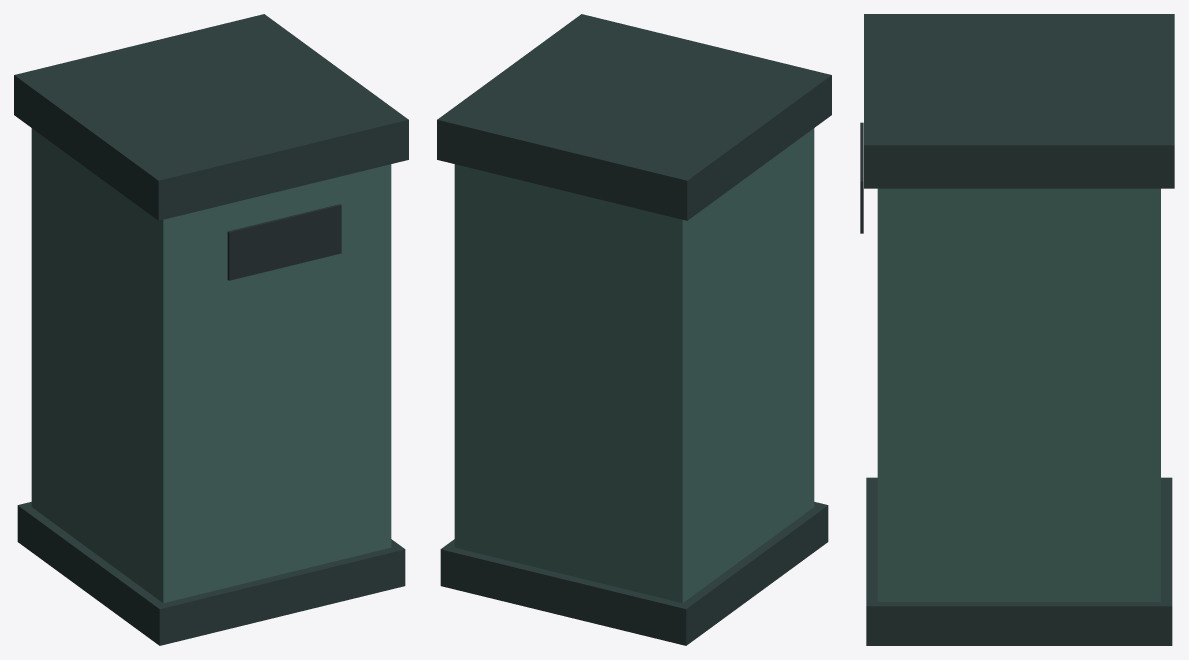
File: canopy_trash_station.glb
The picture shows the model from 3 angles, left to right: view 1: azimuth 30°, elevation 25°; view 2: azimuth 150°, elevation 25°; view 3: azimuth 270°, elevation 25°; orthographic projection. The views are drawn at different scales.
Parts seen in each view (by area): view 1: Waste bin shell, Waste lid, Waste bin plinth, Waste opening; view 2: Waste bin shell, Waste lid, Waste bin plinth; view 3: Waste bin shell, Waste lid, Waste bin plinth.
Boxes of the visible parts, x1,y1,x2,y2 form: Waste bin shell: [31, 128, 391, 603]; Waste lid: [14, 14, 408, 220]; Waste bin plinth: [17, 502, 405, 645]; Waste opening: [227, 204, 341, 280]; Waste bin shell: [454, 128, 814, 603]; Waste lid: [437, 14, 831, 220]; Waste bin plinth: [440, 502, 828, 645]; Waste bin shell: [877, 188, 1160, 601]; Waste lid: [864, 14, 1174, 188]; Waste bin plinth: [866, 477, 1172, 645].
Bounding box in the file's own units: 0.385 × 0.686 × 0.3895.
